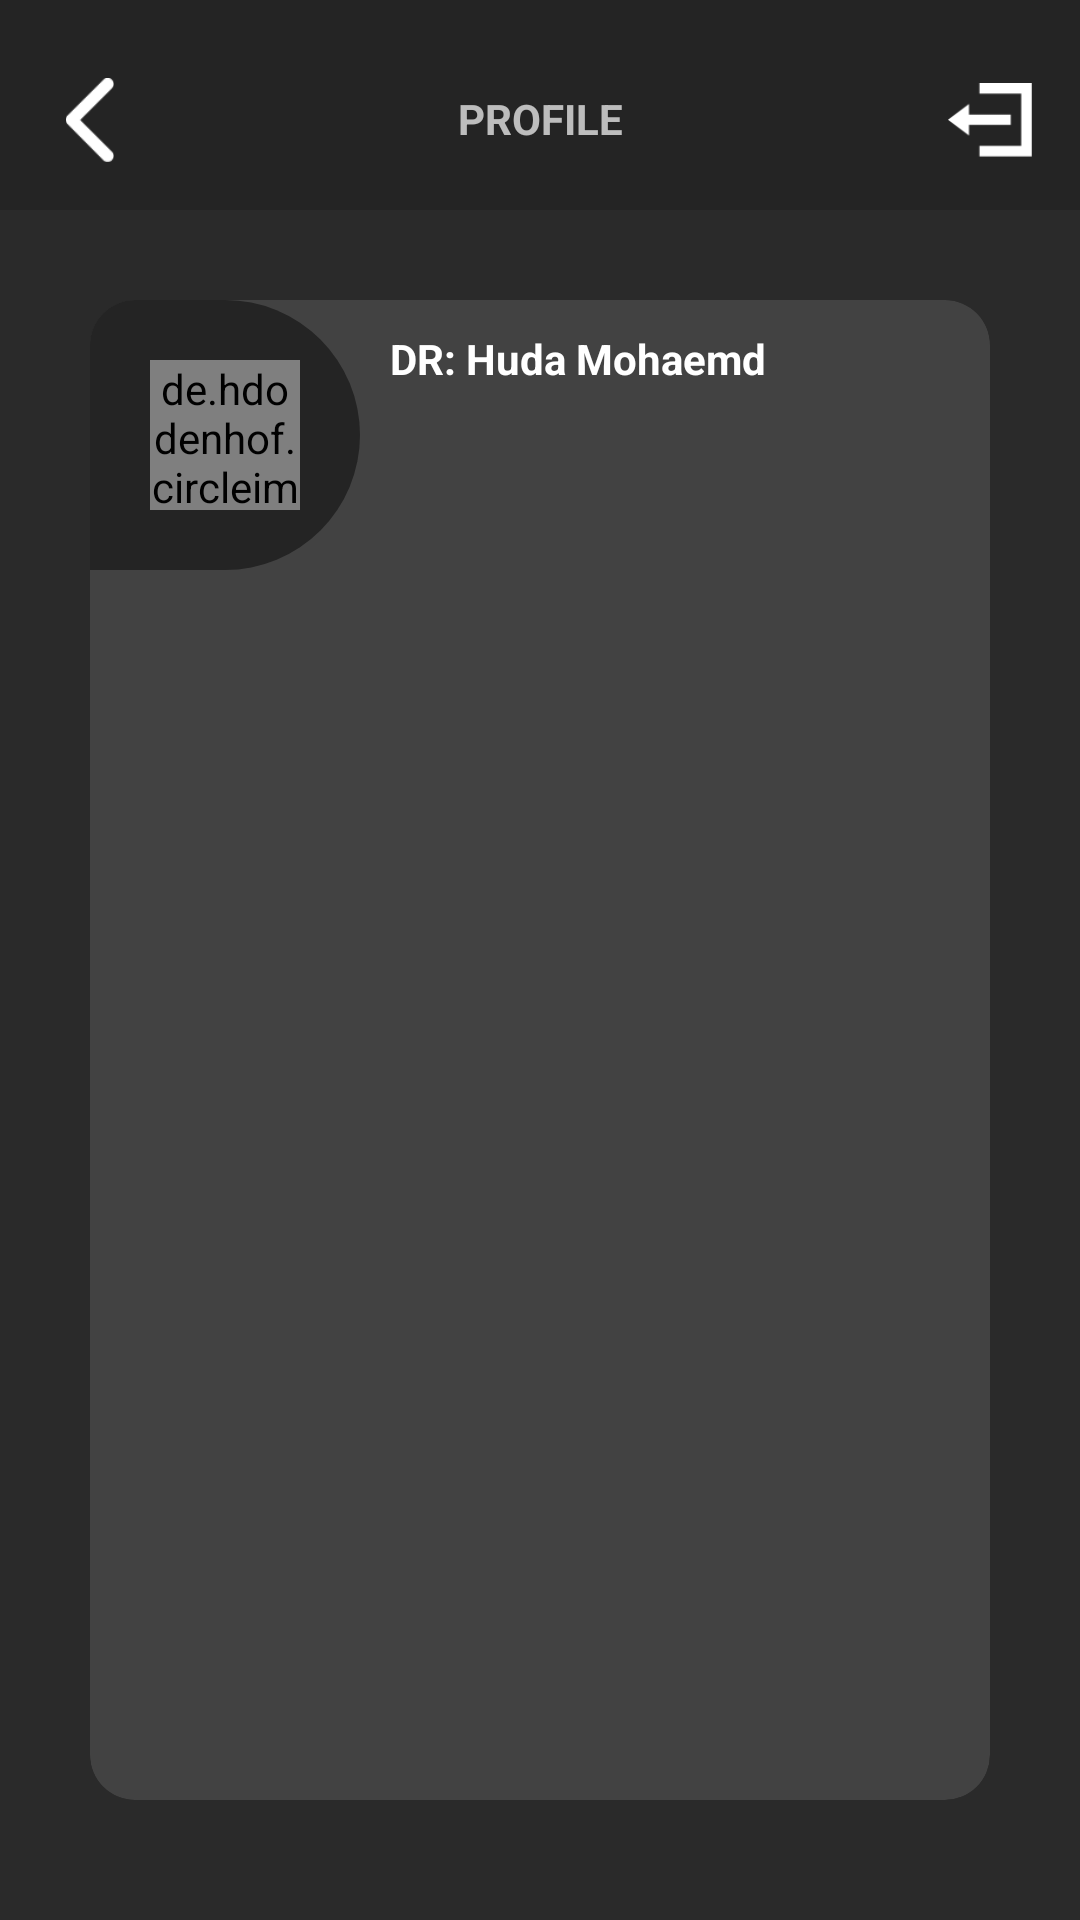

Screen size 1080 × 1920. Icon name, then its center in pixels as [x,y]:
back: [90,120]
